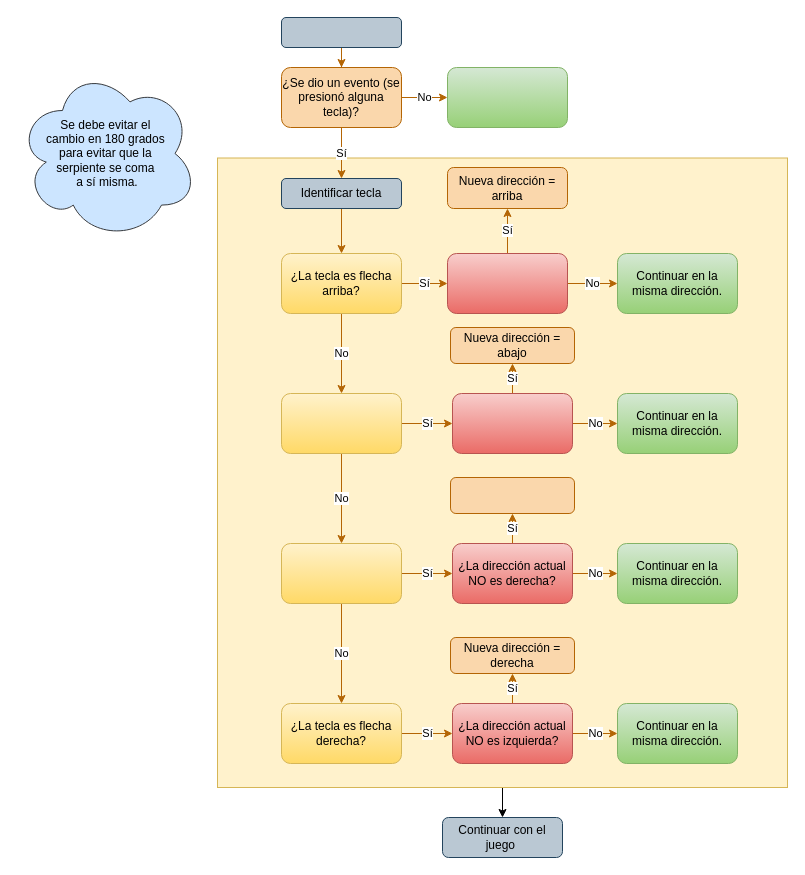
The diagram is 805 pixels wide and 875 high, and some of its shapes have lost their labels. The centre of each missing label's shape, as x and y in pixels:
Continuar en la misma dirección: [507,97]
Inicio del evento: [341,32]
Nueva dirección = izquierda: [512,495]
¿La dirección actual NO es abajo?: [507,283]
¿La dirección actual NO es arriba?: [512,423]
¿La tecla es flecha abajo?: [341,423]
¿La tecla es flecha izquierda?: [341,573]
